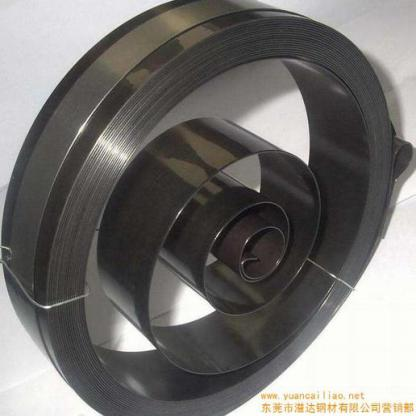FOD: (0, 0, 414, 415)
